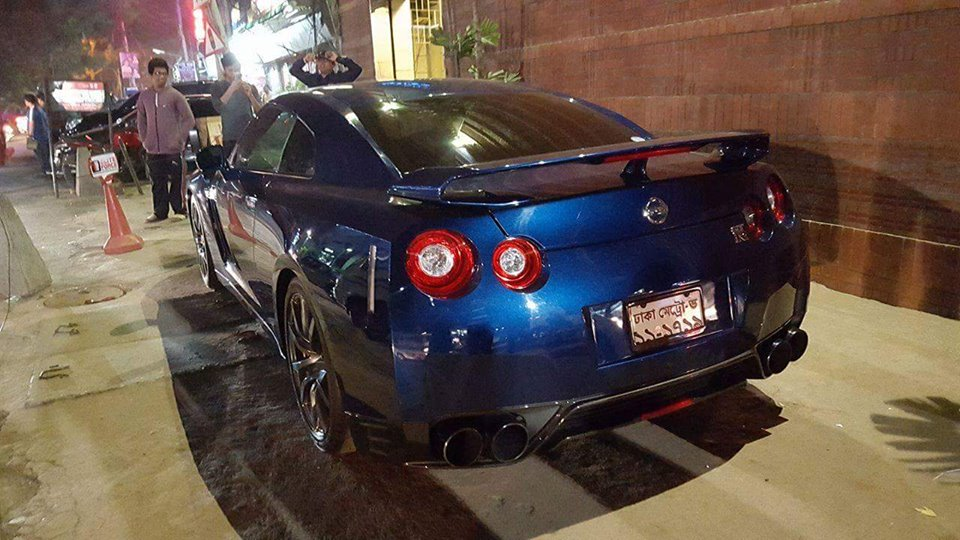registration_plate: (626, 289, 706, 347)
